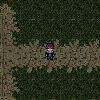Victim: (44, 39, 56, 61)
